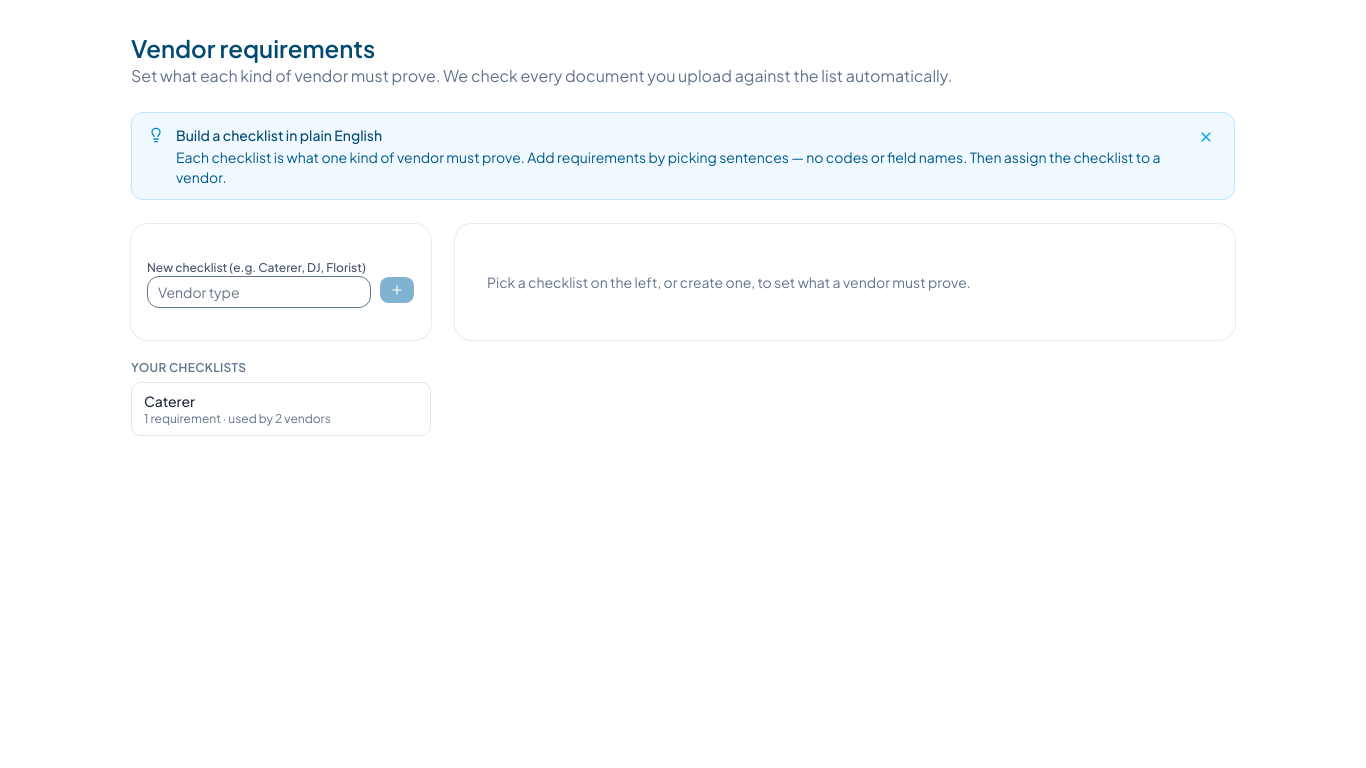
Test case: RulesPage — additional-insured nudge (#400) › shows the nudge on an editable COI checklist that lacks the additional-insured requirement
Click the button "Caterer 1 requirement · used by 2 vendors".
click(281, 409)  # box 131,382 -> 431,436
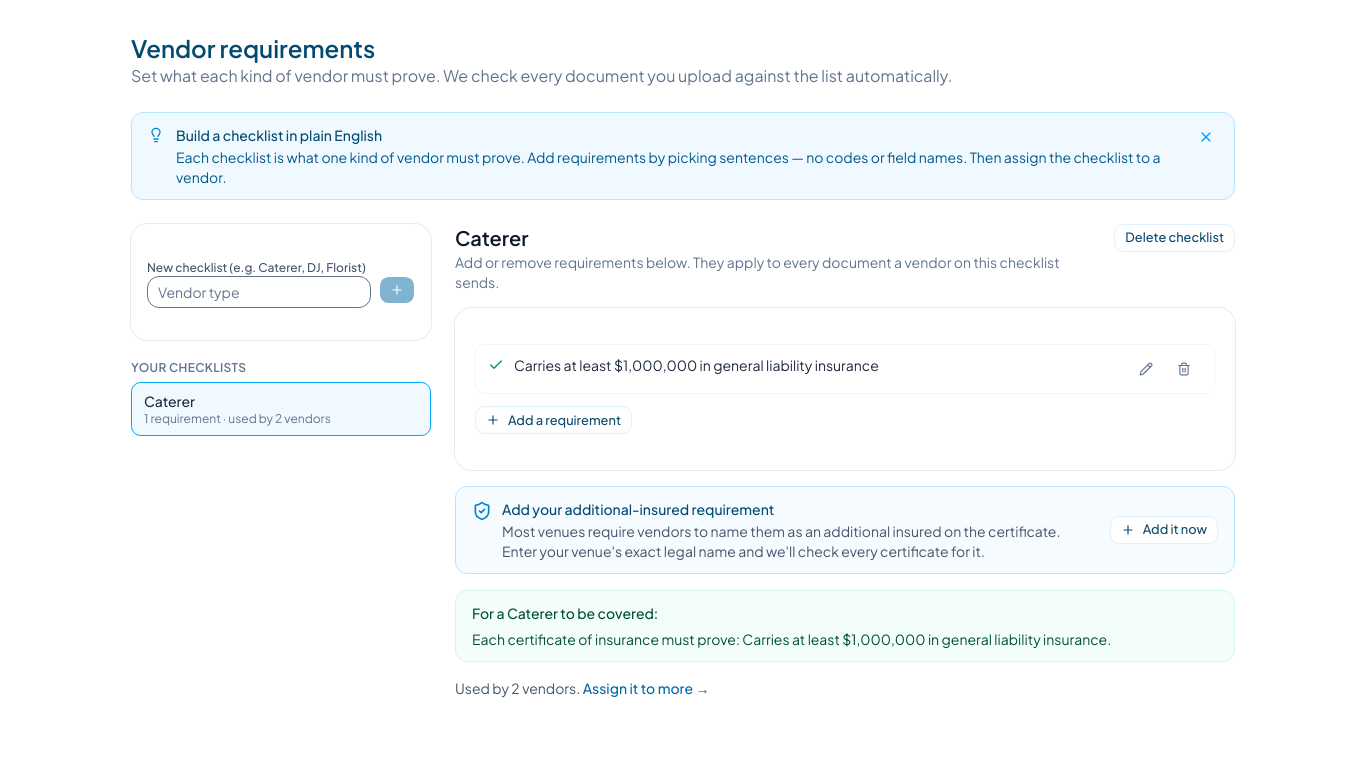
Expected: the text "Add your additional-insured requirement" is shown, 502,500 -> 774,518
Expected: the text "exact legal name" is shown, 502,522 -> 1060,560
